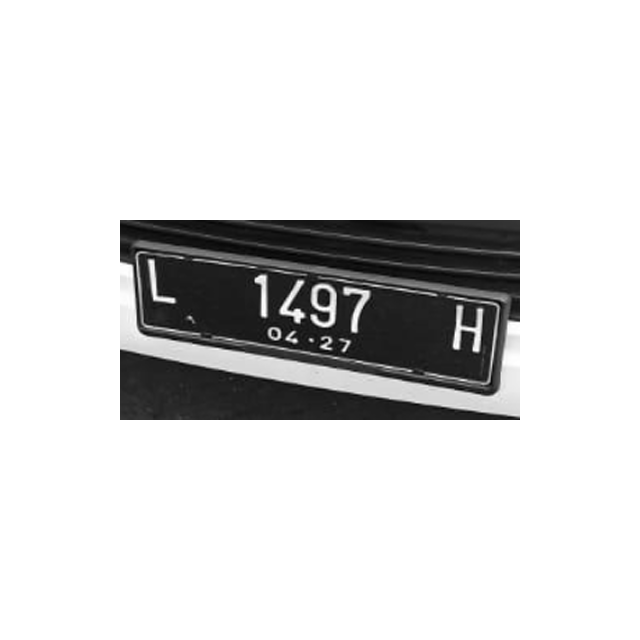contain: (137, 253, 179, 309), (452, 299, 489, 354), (274, 276, 309, 330), (309, 277, 341, 332), (340, 281, 372, 336), (243, 271, 273, 324)
